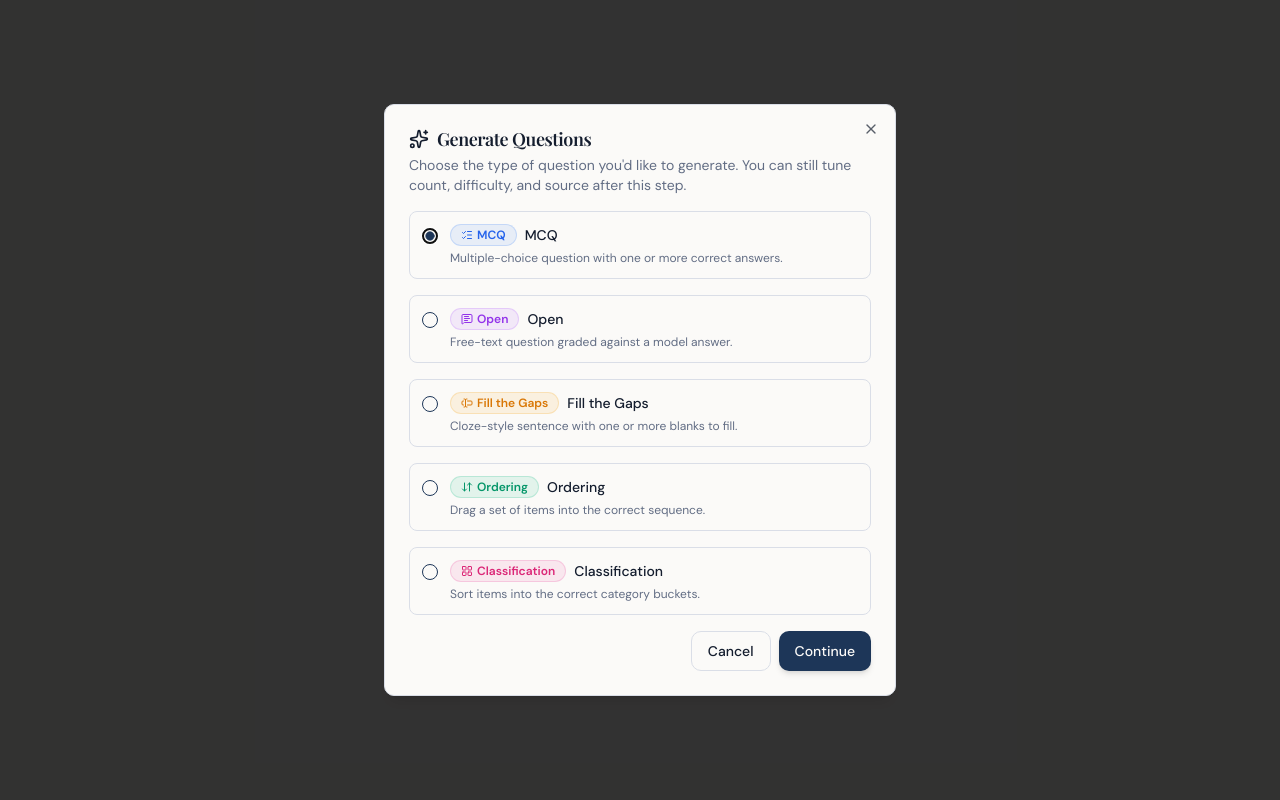
UnifiedGenerateDialog (#630) › offers an 'Other' material as a whole document and sends it as materialIds
Later steps or results of the test are not shown.
Click the 2nd radio button named "Open" at (430, 320), box [422, 312, 438, 328]
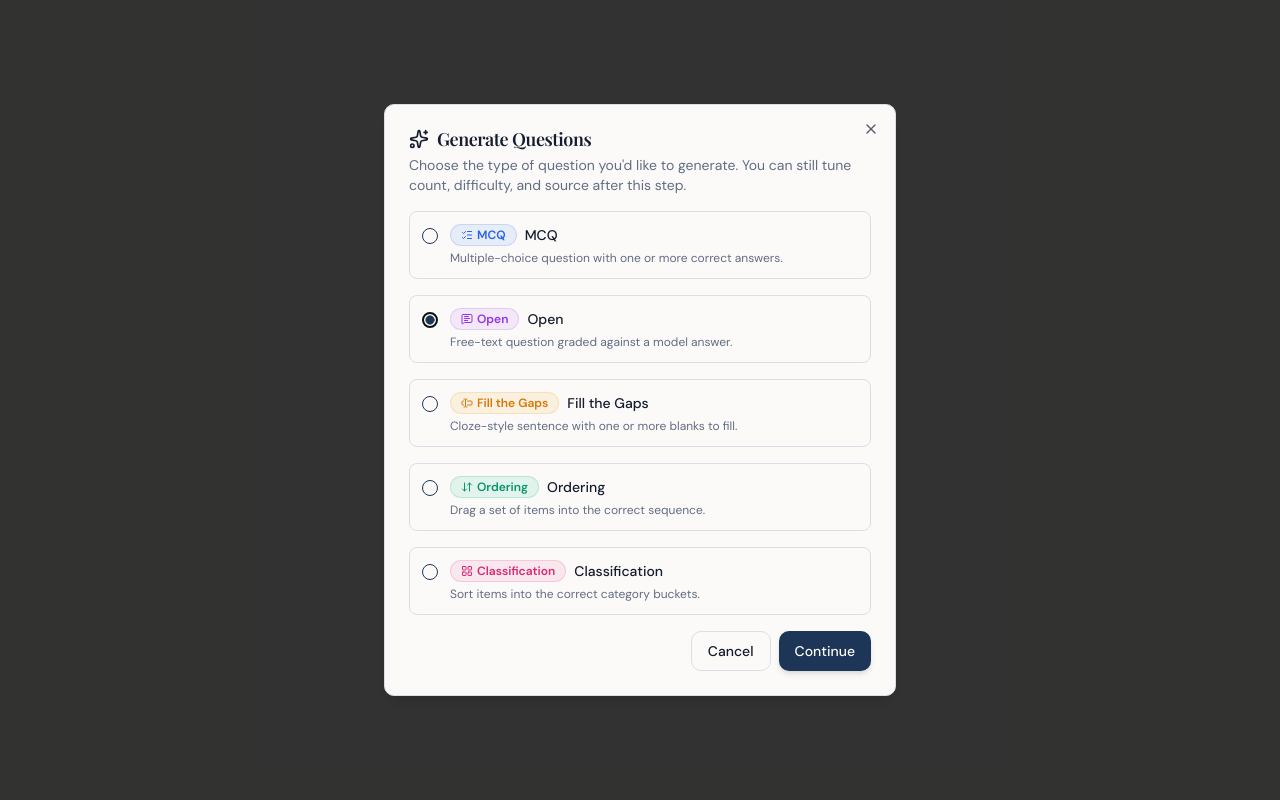
Click the button "Continue" at (825, 651), box [778, 631, 871, 671]
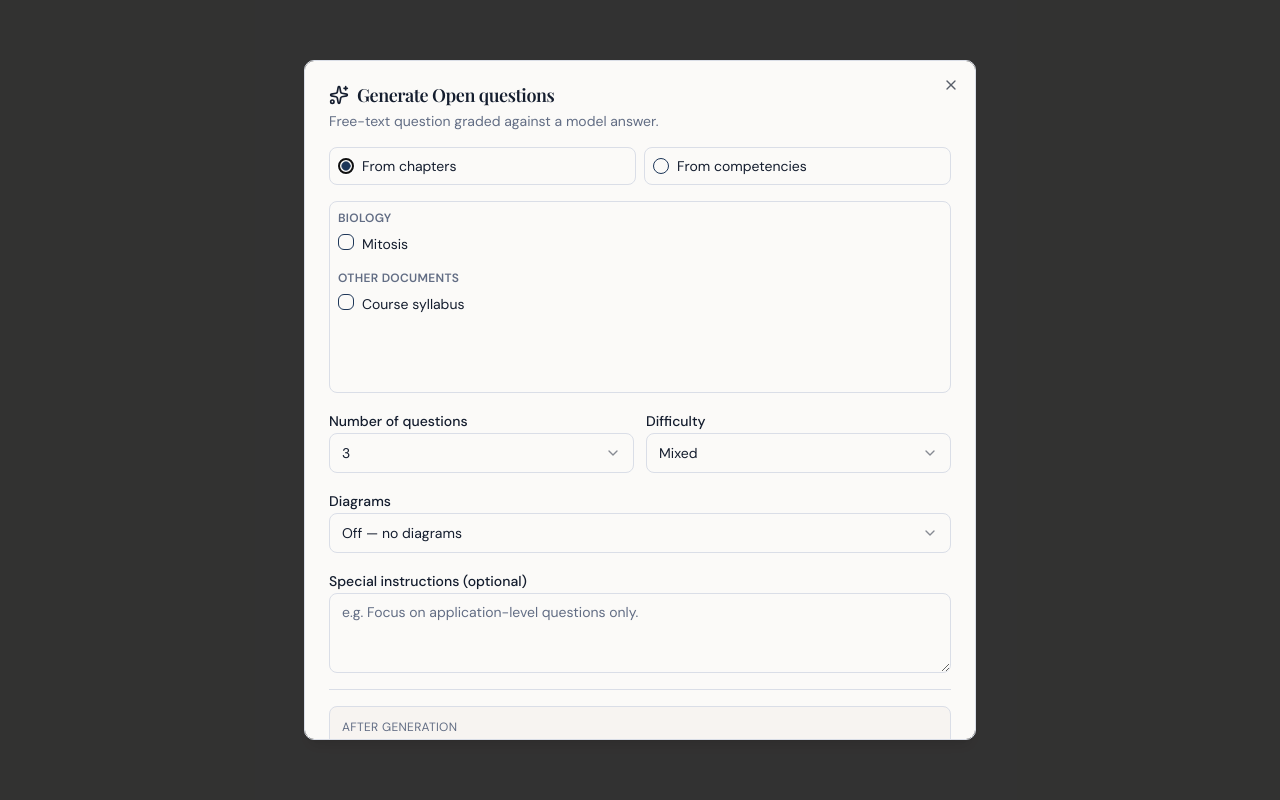
Expected: the text "Other documents" is shown, [338, 270, 459, 286]
